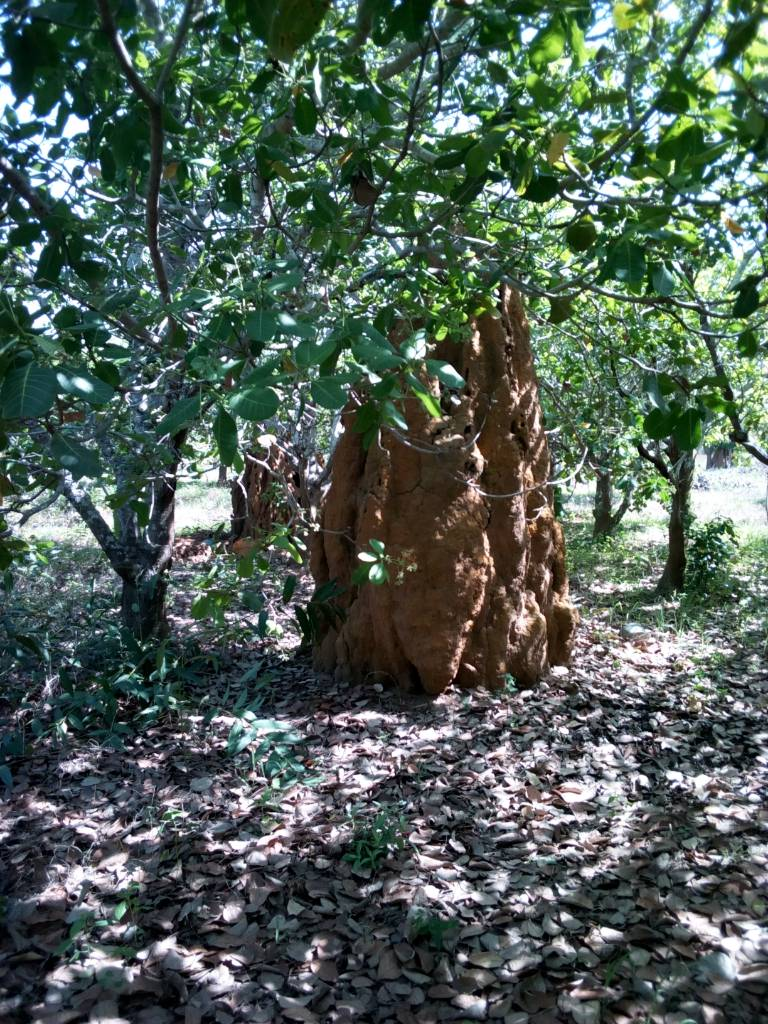Termites: (324, 416, 569, 672)
